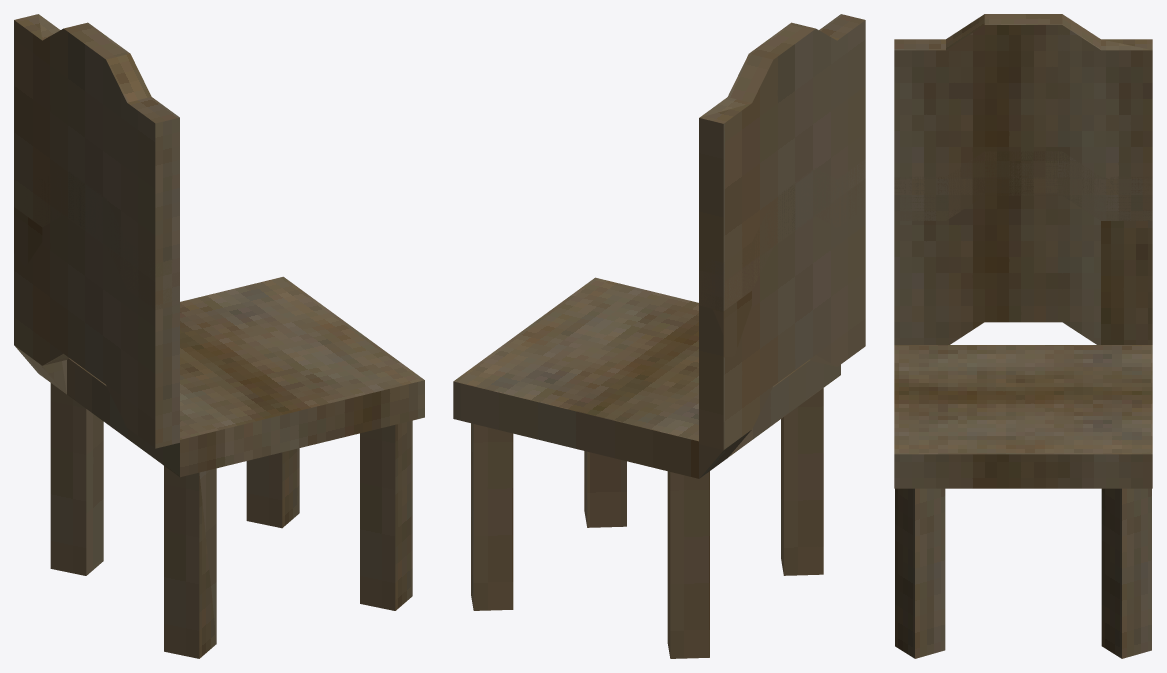
The model's file is chair.obj.
3 views of the same model, side by side, from view 1: azimuth 30°, elevation 25°; view 2: azimuth 150°, elevation 25°; view 3: azimuth 270°, elevation 25° (orthographic). The views are drawn at different scales.
Parts seen in each view (by area): view 1: Cube.001, Cube(Clone)(Clone), Cube(Clone)(Clone).001, Cube-clone(Clone)_(3), Cube-clone(Clone)_(1), Cube-clone(Clone)_(2), Cube-clone(Clone), Cube-clone(Clone)(Clone); view 2: Cube.001, Cube(Clone)(Clone), Cube(Clone)(Clone).001, Cube-clone(Clone)_(2), Cube-clone(Clone), Cube-clone(Clone)_(3), Cube-clone(Clone)_(1), Cube-clone(Clone)(Clone); view 3: Cube(Clone)(Clone), Cube.001, Cube(Clone)(Clone).001, Cube-clone(Clone)_(1), Cube-clone(Clone), Cube-clone(Clone)(Clone).
Boxes of the visible parts, x1,y1,x2,y2 form: Cube.001: (67, 276, 424, 477); Cube(Clone)(Clone): (14, 14, 179, 310); Cube(Clone)(Clone).001: (14, 167, 179, 448); Cube-clone(Clone)_(3): (164, 466, 216, 658); Cube-clone(Clone)_(1): (360, 420, 412, 610); Cube-clone(Clone)_(2): (50, 383, 103, 575); Cube-clone(Clone): (246, 448, 299, 528); Cube-clone(Clone)(Clone): (14, 207, 66, 394); Cube.001: (453, 277, 840, 478); Cube(Clone)(Clone): (699, 14, 865, 310); Cube(Clone)(Clone).001: (699, 159, 865, 450); Cube-clone(Clone)_(2): (667, 471, 709, 658); Cube-clone(Clone): (471, 423, 513, 610); Cube-clone(Clone)_(3): (781, 388, 823, 575); Cube-clone(Clone)_(1): (584, 451, 626, 527); Cube-clone(Clone)(Clone): (699, 291, 751, 478); Cube(Clone)(Clone): (894, 14, 1152, 220); Cube.001: (894, 345, 1152, 488); Cube(Clone)(Clone).001: (894, 151, 1152, 344); Cube-clone(Clone)_(1): (895, 488, 945, 658); Cube-clone(Clone): (1101, 488, 1151, 658); Cube-clone(Clone)(Clone): (1101, 221, 1152, 344).
Bounding box in the file's own units: 1.1 × 2.24 × 1.
Materials: 1 (1 with a texture image).
